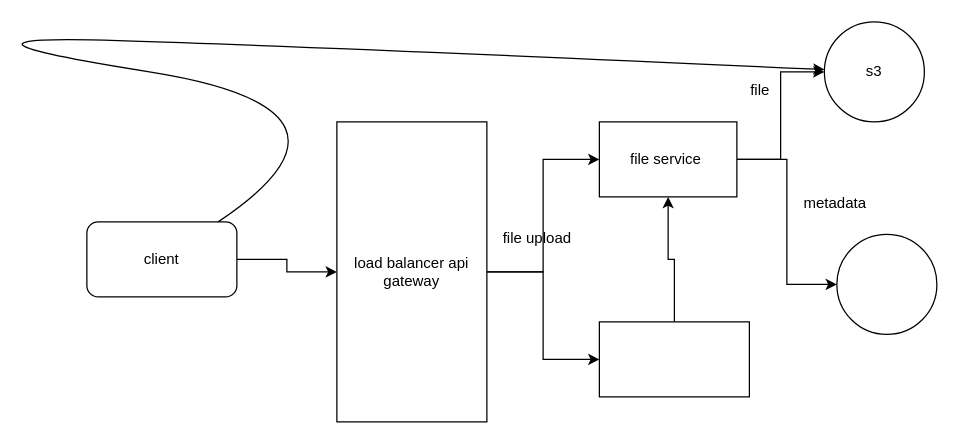
Image size: 959x444. Some labels were removed from this diagram. Each missing label, with the box of its shape:
metadata storage: (836, 233, 937, 334)
sync service: (598, 321, 749, 397)
